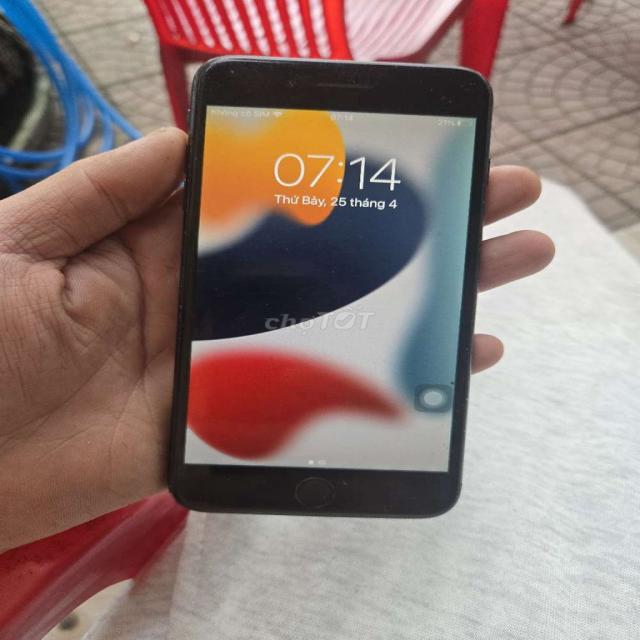gen_7_8: (165, 39, 494, 525)
scratch: (402, 71, 484, 112), (319, 493, 456, 514), (183, 71, 206, 107), (248, 51, 302, 66), (219, 59, 240, 76), (335, 473, 351, 488)
